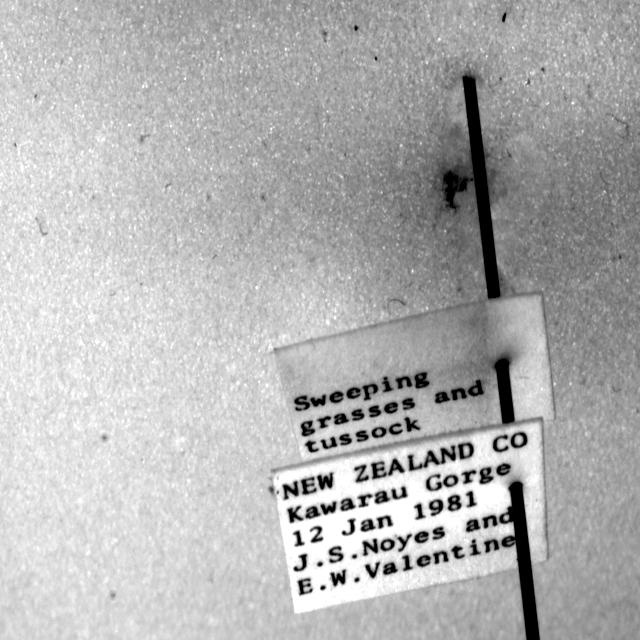typed_label: (271, 420, 548, 613), (275, 294, 555, 461)
